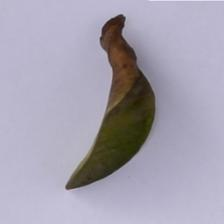black spot: (86, 17, 154, 105)
